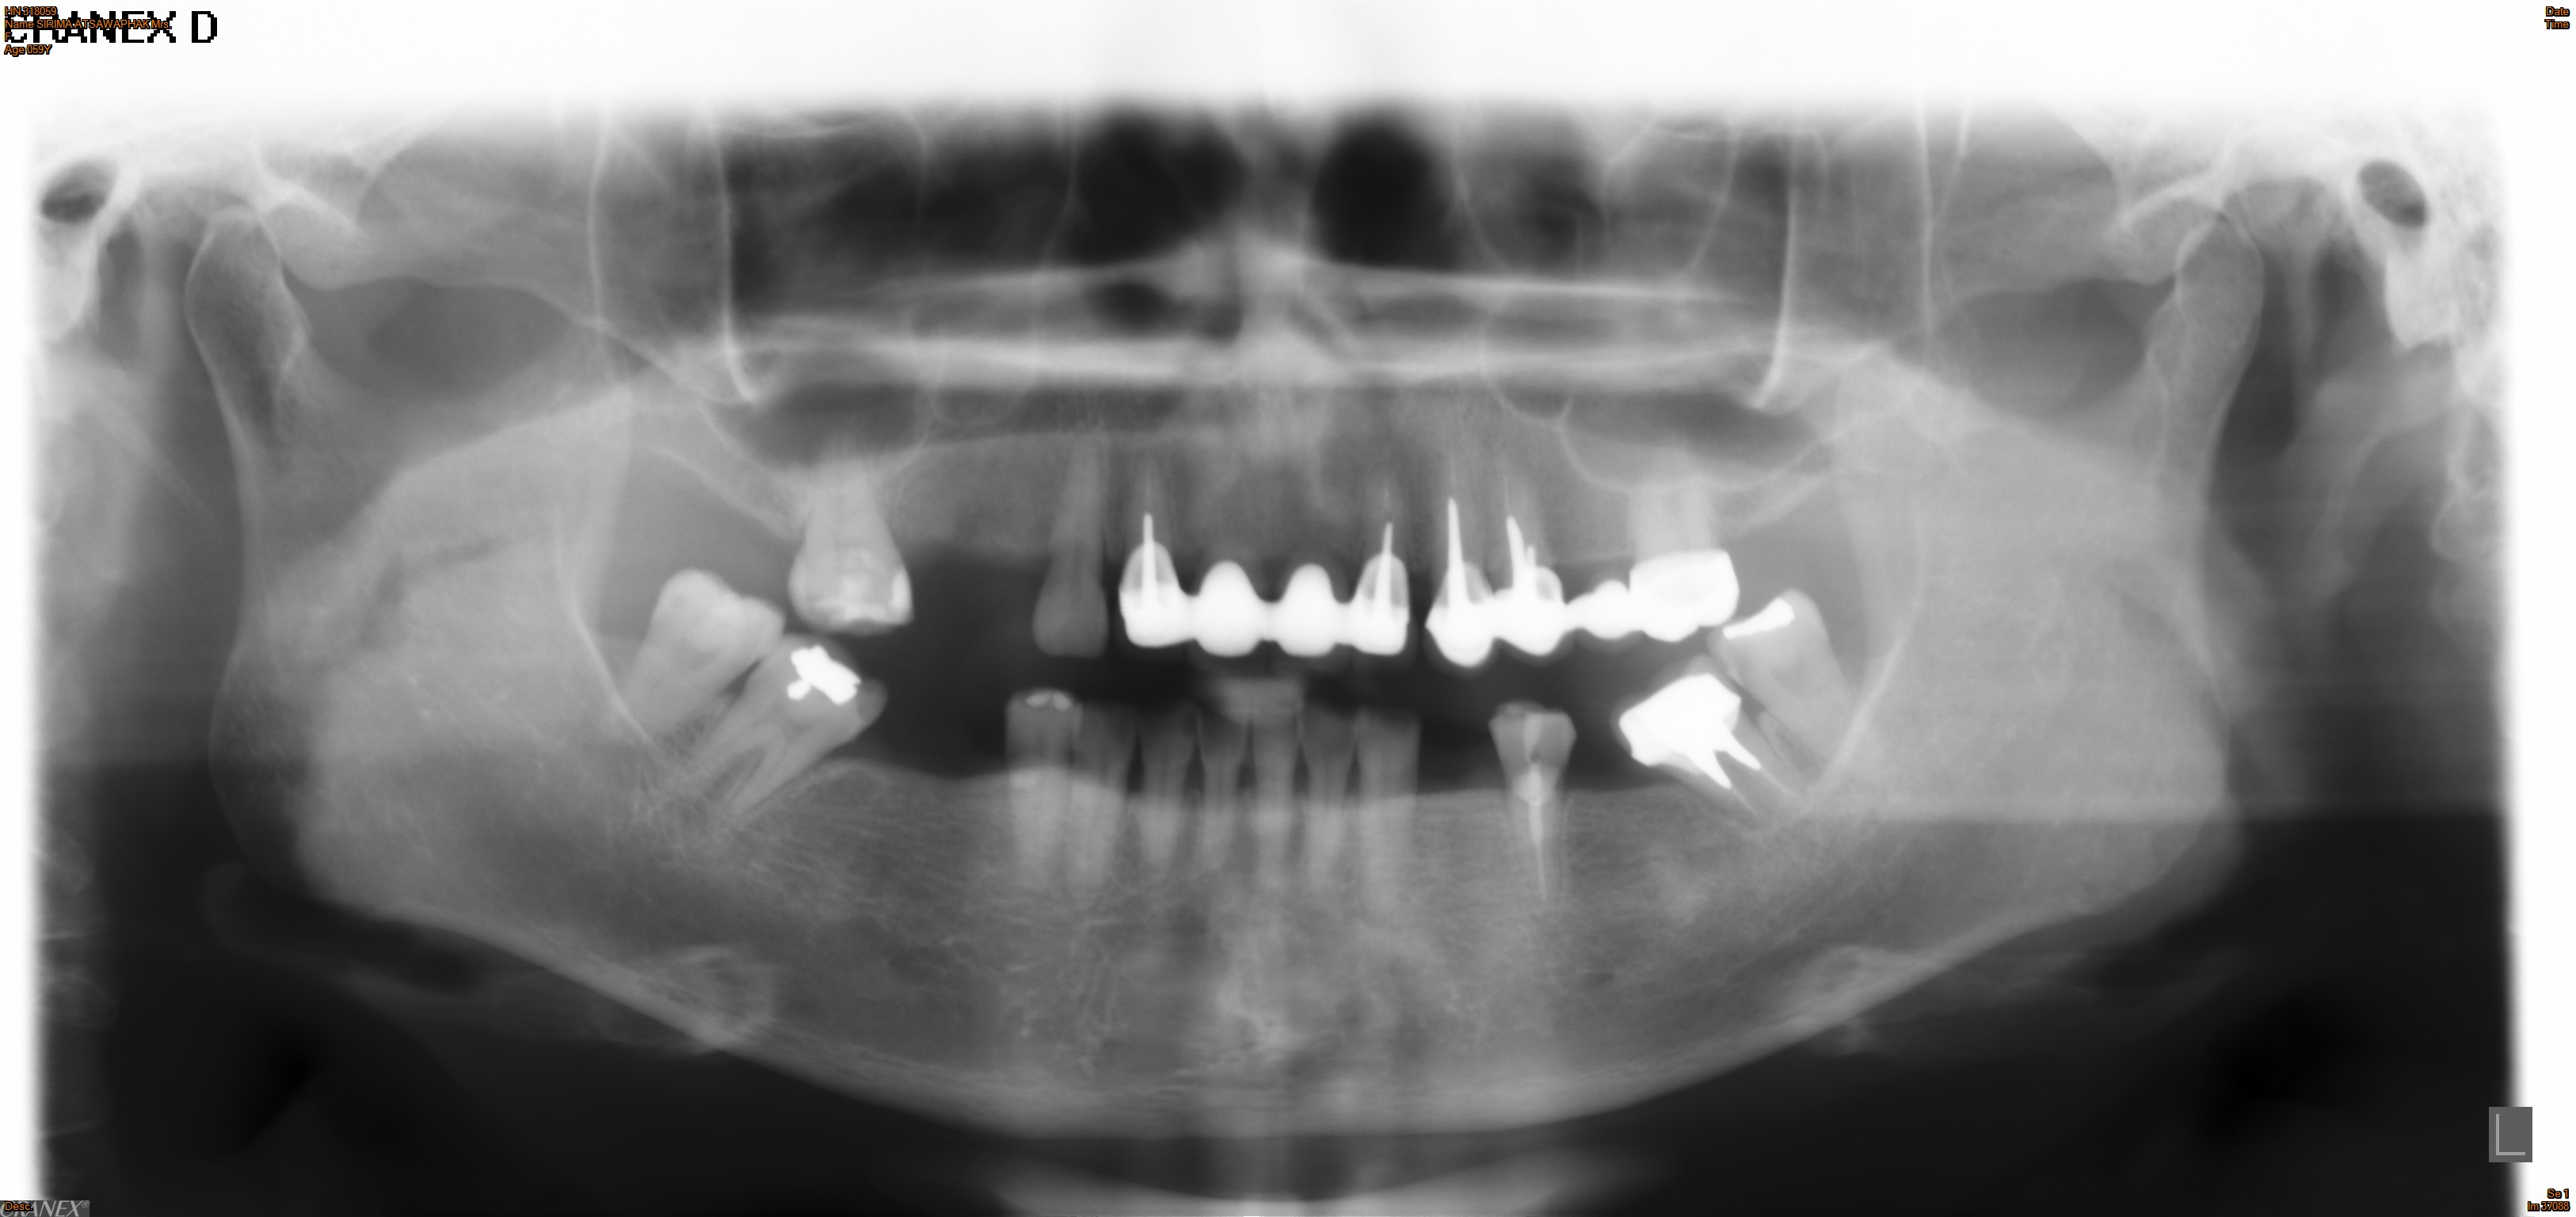periodontitis: (646, 629, 902, 838), (1605, 647, 1820, 839), (779, 425, 918, 641), (1022, 412, 1130, 662), (1480, 690, 1584, 941), (996, 677, 1084, 915)
